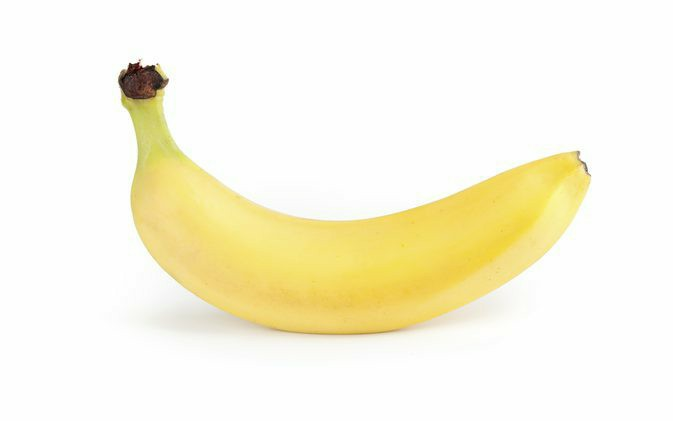fresh_banana: (123, 62, 595, 333)
